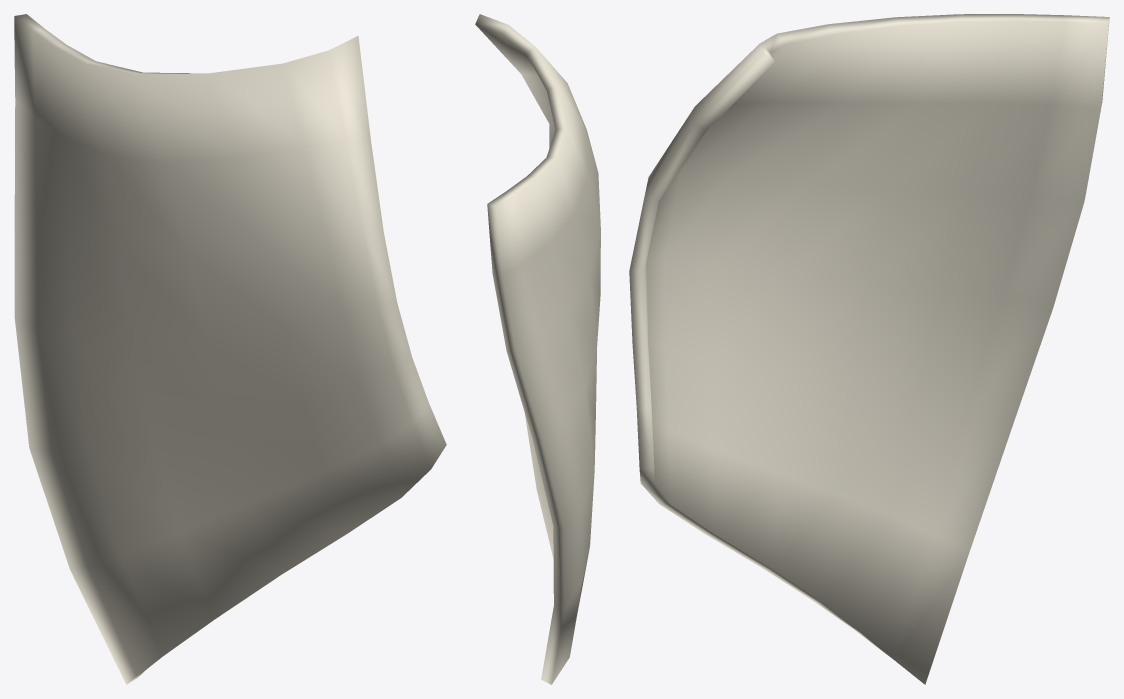
3 views of the same model, side by side, from view 1: azimuth 30°, elevation 25°; view 2: azimuth 150°, elevation 25°; view 3: azimuth 270°, elevation 25° (orthographic). The views are drawn at different scales.
Parts seen in each view (by area): view 1: ZA_e9bcb47d7f8eabfa; view 2: ZA_e9bcb47d7f8eabfa; view 3: ZA_e9bcb47d7f8eabfa.
Boxes of the visible parts, x1,y1,x2,y2 form: ZA_e9bcb47d7f8eabfa: [14, 14, 446, 684]; ZA_e9bcb47d7f8eabfa: [475, 14, 600, 684]; ZA_e9bcb47d7f8eabfa: [629, 14, 1109, 684].
Size of the model in its own units: 0.0101 by 0.0266 by 0.0163.
